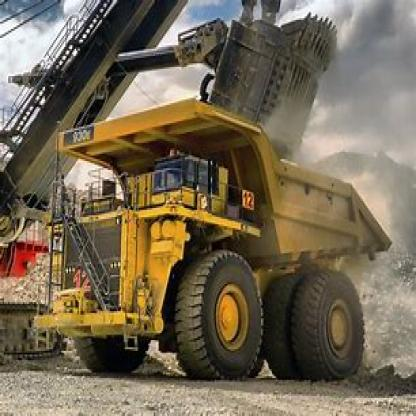dump_truck: (49, 101, 402, 382)
